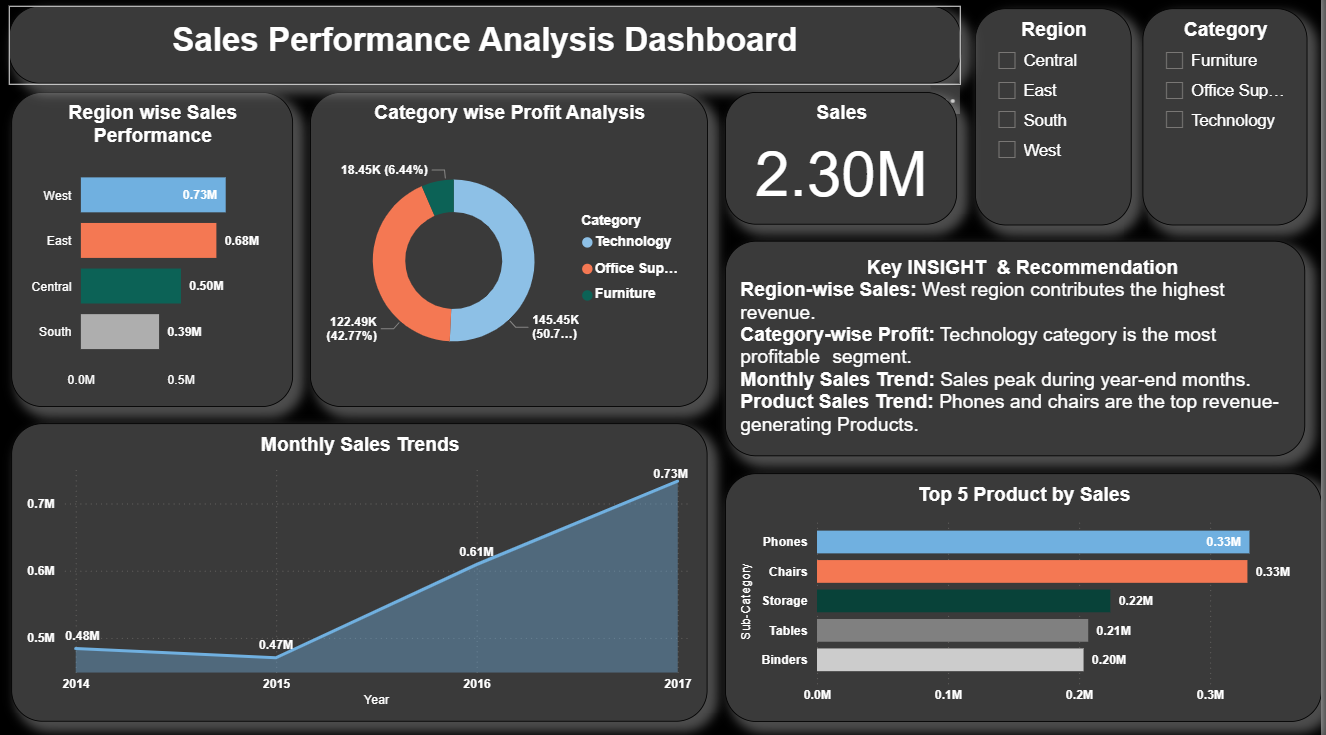

This screenshot's page, from the dashboard's own definition file:
{"tool":"powerbi","page":{"name":"Page 1","canvas":[1280,720],"ordinal":0},"visuals":[{"type":"barChart","title":"Region wise Sales Performance","fields":{"Category":["Sample - Superstore.Region"],"Y":["Sum(Sample - Superstore.Sales)"]},"box":[16,96,272,304],"z":0},{"type":"donutChart","title":" Category wise Profit Analysis","fields":{"Category":["Sample - Superstore.Category"],"Y":["Sum(Sample - Superstore.Profit)"]},"box":[304,96,384,304],"z":1000},{"type":"lineChart","title":"Monthly Sales Trends","fields":{"Category":["Sample - Superstore.Order Date.Variation.Date Hierarchy.Year","Sample - Superstore.Order Date.Variation.Date Hierarchy.Month"],"Y":["Sum(Sample - Superstore.Sales)"]},"box":[16,416,672,288],"z":2000},{"type":"slicer","title":"Region","fields":{"Values":["Sample - Superstore.Region"]},"box":[945.5,15.1,150.9,209.9],"z":3000},{"type":"slicer","title":"Category","fields":{"Values":["Sample - Superstore.Category"]},"box":[1107.4,15.1,159.2,209.9],"z":4000},{"type":"textbox","box":[13.7,13.7,919.4,75.5],"z":5000},{"type":"card","title":"Sales","fields":{"Values":["Sum(Sample - Superstore.Sales)"]},"box":[704,96,224,128],"z":6000},{"type":"textbox","box":[704,240,560,208],"z":7000},{"type":"barChart","title":"Top 5 Product by Sales","fields":{"Category":["Sample - Superstore.Sub-Category"],"Y":["Sum(Sample - Superstore.Sales)"]},"box":[704,464,576,240],"z":7001}]}

Visuals, with their boxes in screenshot pixels (x1, y1, x2, y2), scaled from the page's 1280x720 canvas onto the 1326x735 screenshot:
"Region wise Sales Performance" barChart: BBox(17, 98, 298, 408)
" Category wise Profit Analysis" donutChart: BBox(315, 98, 713, 408)
"Monthly Sales Trends" lineChart: BBox(17, 425, 713, 719)
"Region" slicer: BBox(979, 15, 1136, 230)
"Category" slicer: BBox(1147, 15, 1312, 230)
textbox: BBox(14, 14, 967, 91)
"Sales" card: BBox(729, 98, 961, 229)
textbox: BBox(729, 245, 1309, 457)
"Top 5 Product by Sales" barChart: BBox(729, 474, 1325, 719)
